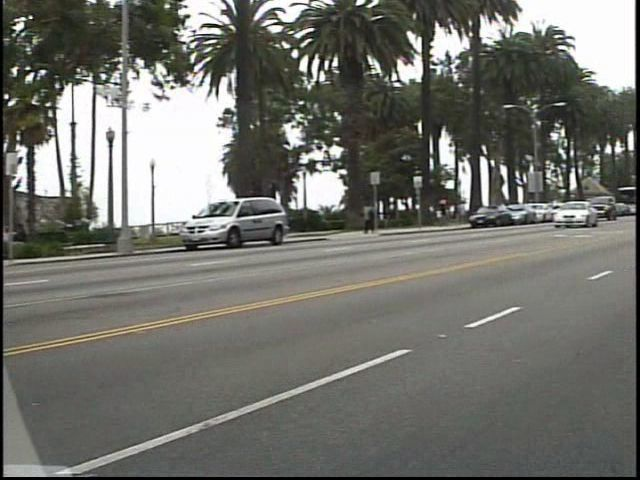person: (368, 199, 390, 239), (444, 193, 463, 227)
